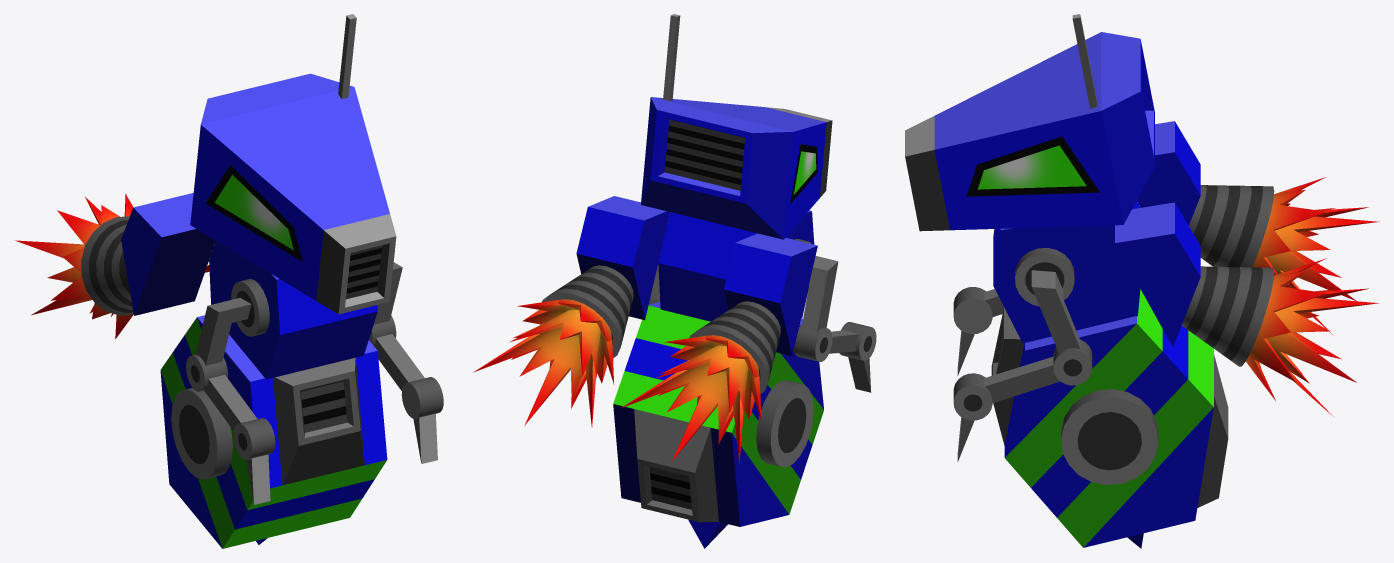
3 views of the same model, side by side, from view 1: azimuth 30°, elevation 25°; view 2: azimuth 150°, elevation 25°; view 3: azimuth 270°, elevation 25° (orthographic). The views are drawn at different scales.
Parts seen in each view (by area): view 1: Ch_208_Head, Ch_208, Ch_208_Chest, Ch_208_Arm_L, Ch_208_Arm_R, Ch_222_Fire_R, Ch_208_Eye_01; view 2: Ch_208, Ch_208_Chest, Ch_208_Head, Ch_222_Fire_R, Ch_222_Fire_L, Ch_208_Arm_L, Ch_208_Eye_01; view 3: Ch_208, Ch_208_Head, Ch_208_Chest, Ch_208_Arm_R, Ch_222_Fire_L, Ch_222_Fire_R, Ch_208_Eye_01, Ch_208_Arm_L.
Part boxes in pixels (<box>): Ch_208_Head: <box>190,14,396,314</box>; Ch_208: <box>160,315,387,548</box>; Ch_208_Chest: <box>81,193,377,379</box>; Ch_208_Arm_L: <box>186,279,275,504</box>; Ch_208_Arm_R: <box>369,262,443,463</box>; Ch_222_Fire_R: <box>14,194,133,338</box>; Ch_208_Eye_01: <box>214,175,293,250</box>; Ch_208: <box>613,302,823,548</box>; Ch_208_Chest: <box>542,196,817,394</box>; Ch_208_Head: <box>641,14,832,239</box>; Ch_222_Fire_R: <box>621,335,761,463</box>; Ch_222_Fire_L: <box>473,299,614,427</box>; Ch_208_Arm_L: <box>794,239,876,392</box>; Ch_208_Eye_01: <box>793,151,816,194</box>; Ch_208: <box>991,289,1228,548</box>; Ch_208_Head: <box>905,14,1154,231</box>; Ch_208_Chest: <box>993,121,1274,366</box>; Ch_208_Arm_R: <box>953,247,1092,461</box>; Ch_222_Fire_L: <box>1246,258,1378,416</box>; Ch_222_Fire_R: <box>1252,177,1379,335</box>; Ch_208_Eye_01: <box>977,145,1086,189</box>; Ch_208_Arm_L: <box>953,287,1003,375</box>.
Size of the model in its own units: 5.83 by 10.59 by 8.07.
